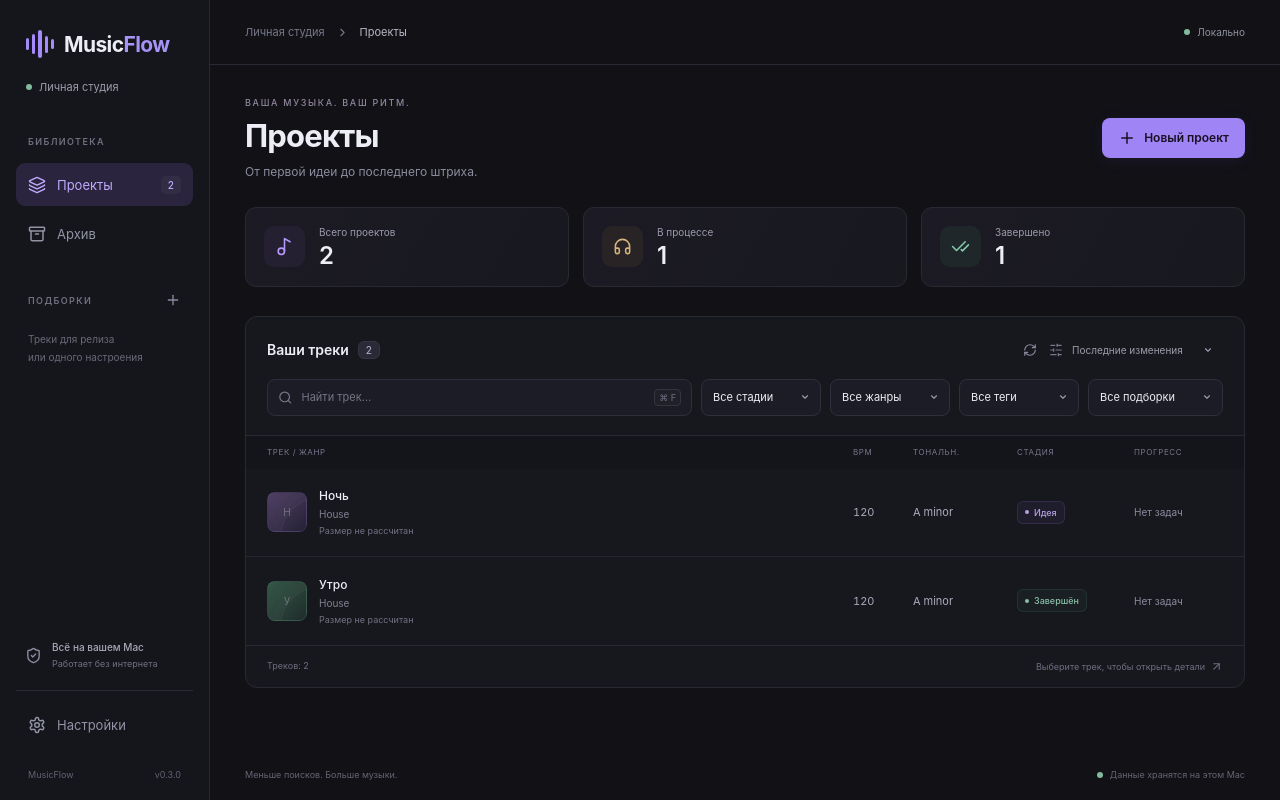
Test: MusicFlow interaction › shows combined search and stage filters and can clear an empty result
The width and height of the screenshot is (1280, 800).
Check: the button with aria-label "Открыть проект: Утро" is shown, box [246, 557, 1244, 645]
Select "Завершён" in the dropdown named "Фильтр по стадии": {"x": 761, "y": 397} [701, 379, 821, 416]
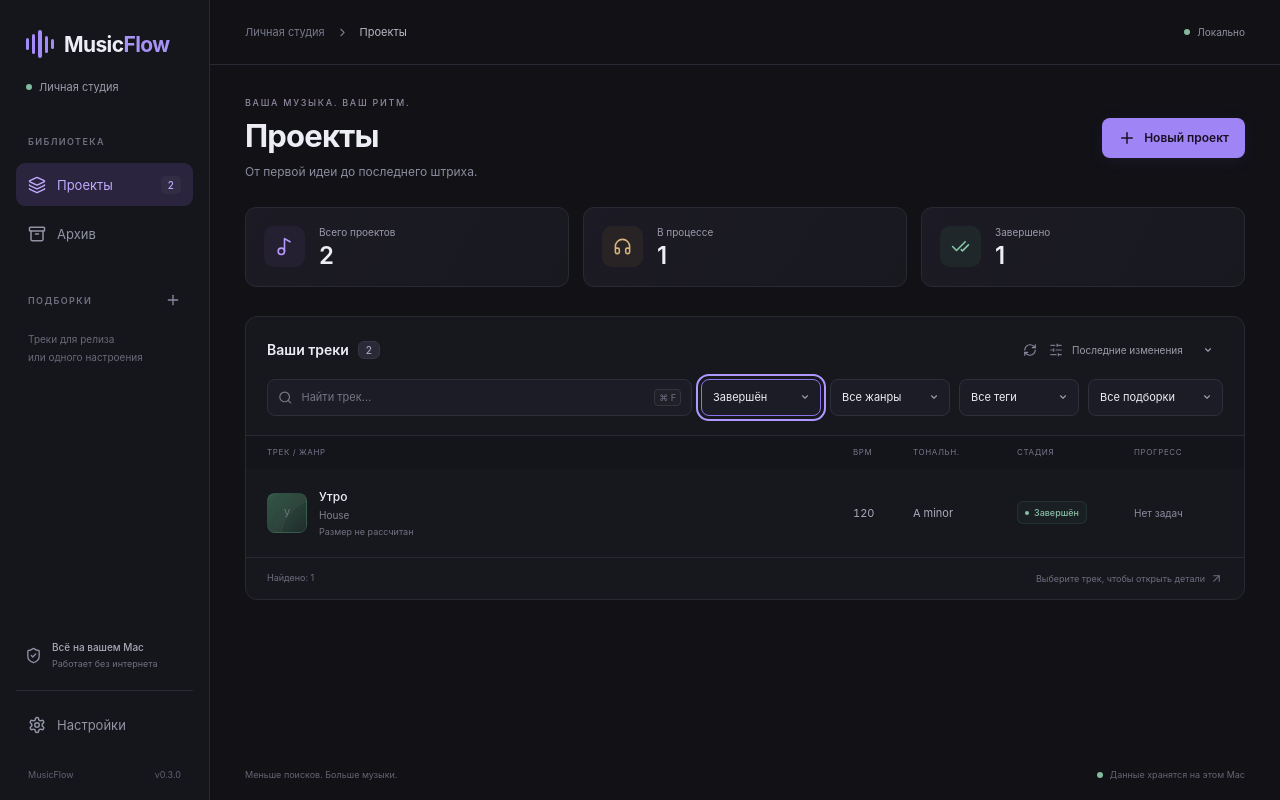
Check: the text "Открыть проект: Ночь" is gone
In the field named "Поиск проектов": {"x": 473, "y": 397} [302, 380, 645, 415], type "Ночь"
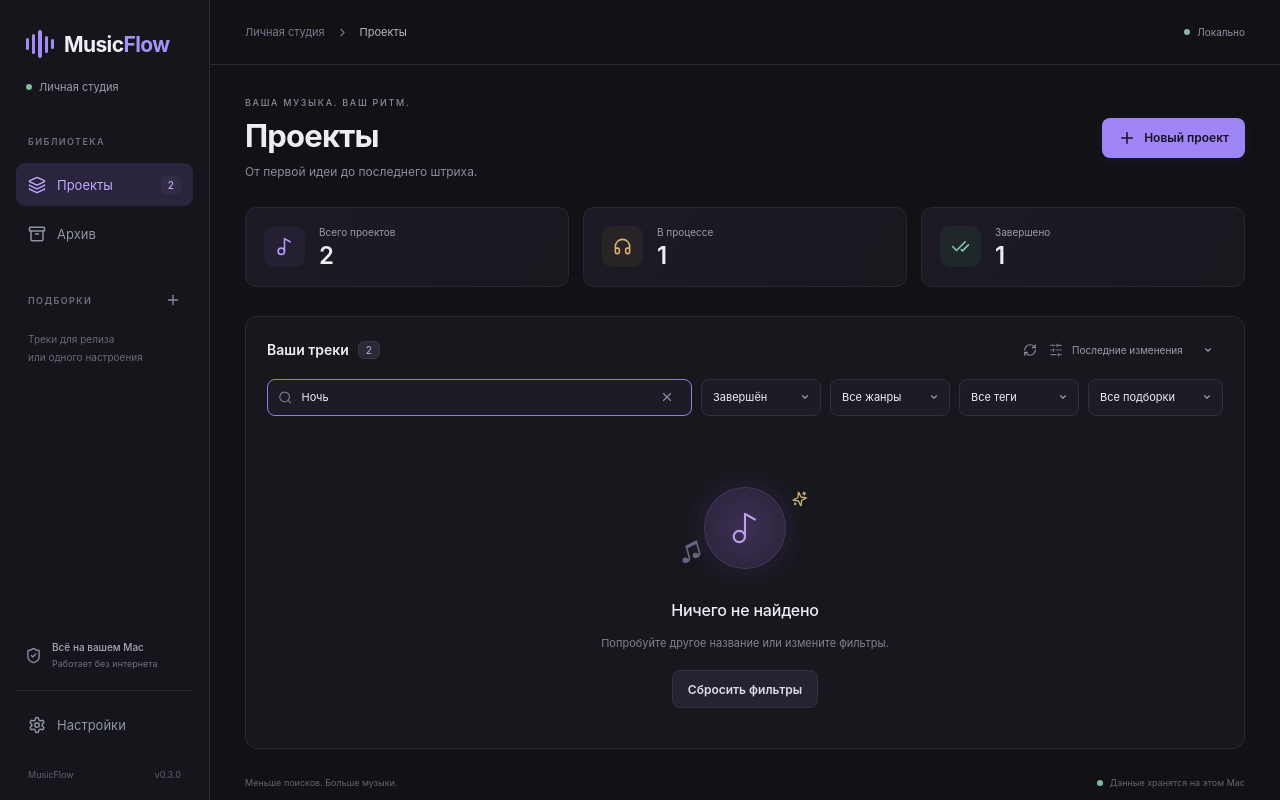
Check: the heading "Ничего не найдено" is shown, box [671, 600, 819, 620]
Click the button "Сбросить фильтры": {"x": 745, "y": 689} [672, 670, 818, 708]
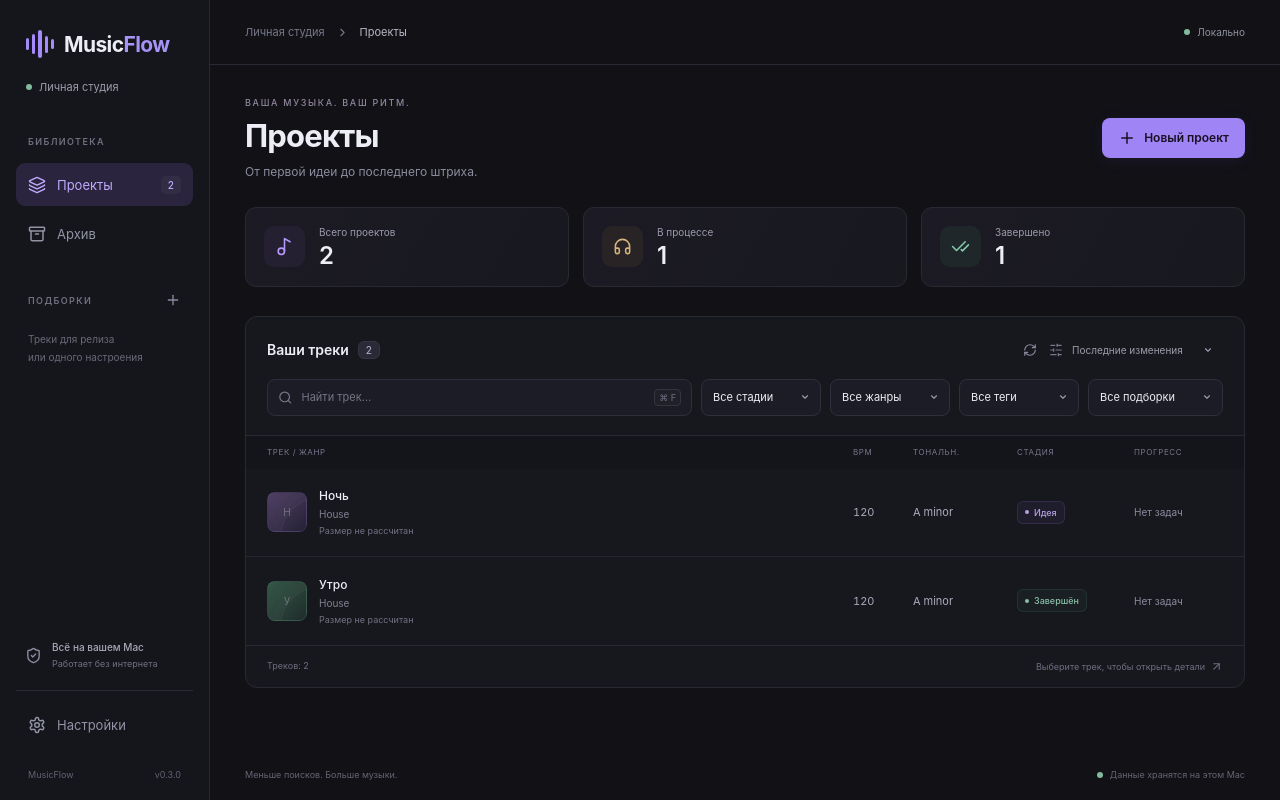
Check: the button with aria-label "Открыть проект: Ночь" is shown, box [246, 469, 1244, 557]
